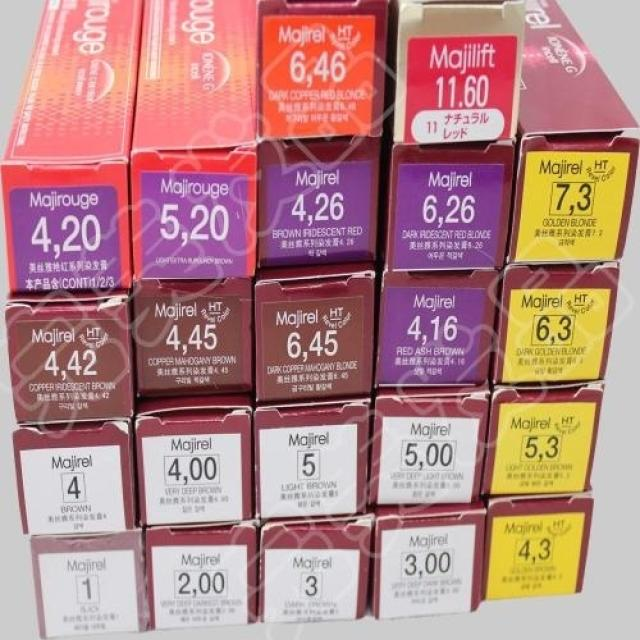box: (256, 0, 388, 268), (507, 0, 640, 265), (393, 1, 524, 142), (6, 289, 133, 425), (255, 261, 376, 402), (490, 262, 621, 389), (385, 141, 513, 269), (136, 392, 253, 529), (375, 270, 504, 390), (367, 387, 490, 507), (131, 276, 253, 396), (255, 396, 372, 521), (13, 420, 136, 535), (483, 383, 604, 495), (31, 527, 151, 639), (369, 503, 486, 617), (256, 509, 375, 621), (143, 520, 259, 628), (483, 492, 593, 603)
